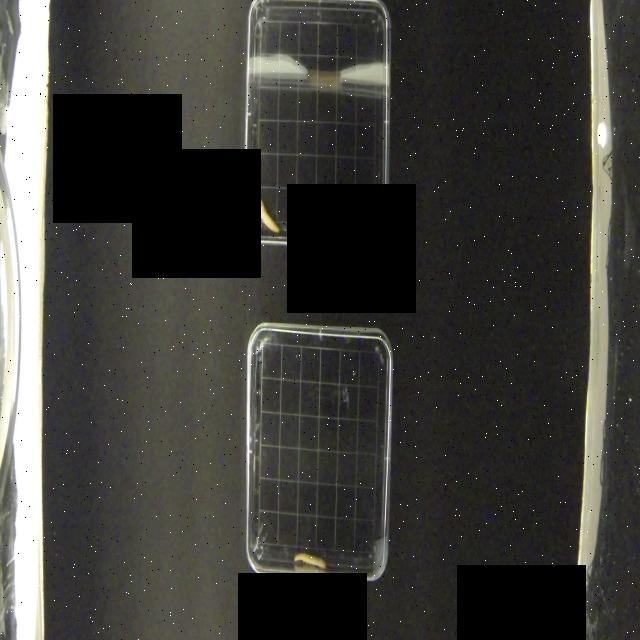larva: (252, 185, 279, 236), (293, 546, 327, 570)
